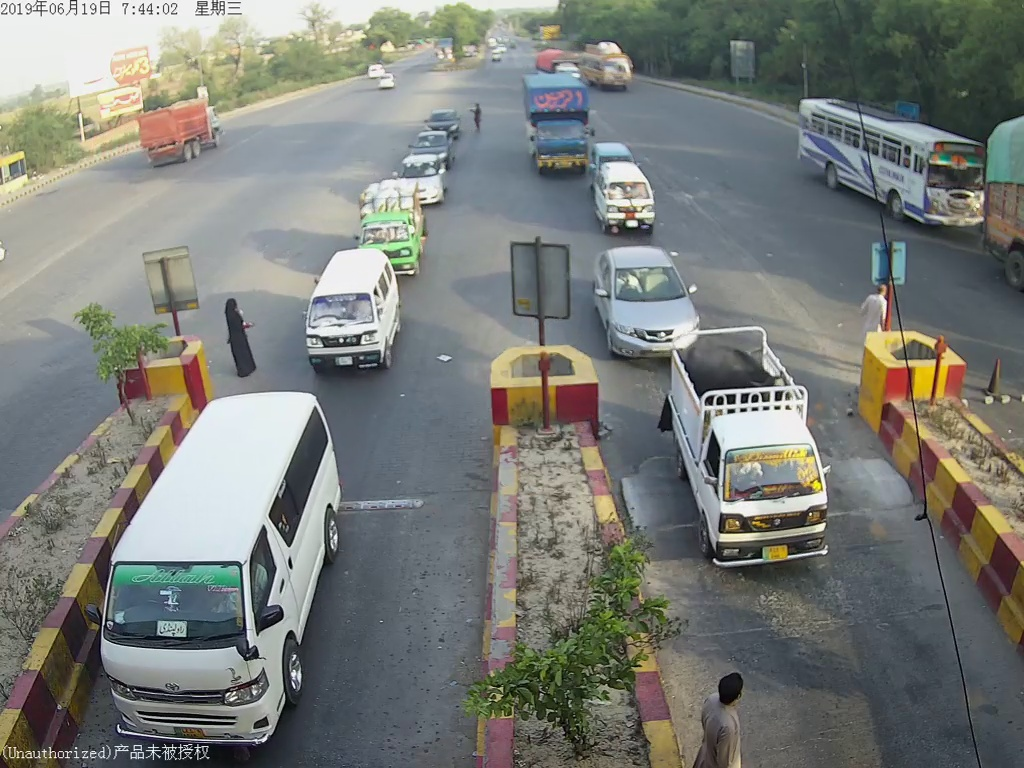Cat-1: (672, 344, 834, 575), (304, 253, 406, 373), (595, 244, 697, 347), (595, 170, 658, 234)
Cat-2: (100, 417, 348, 742), (526, 68, 594, 180)
